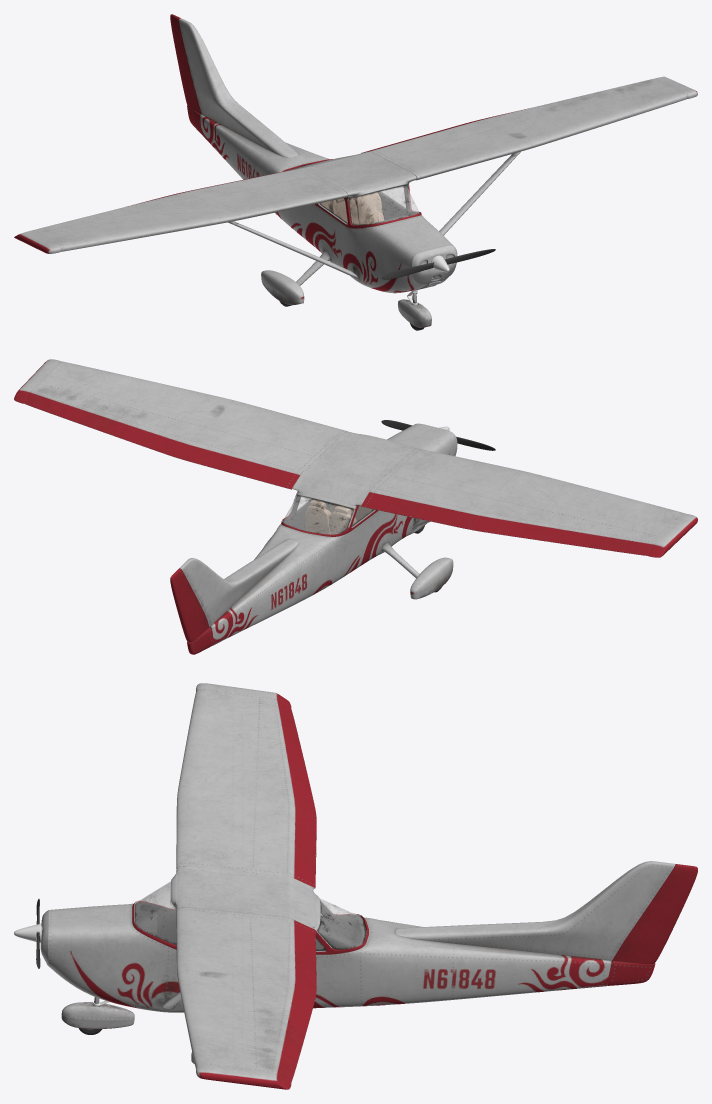
Rendered from SKYBOUND_Cessna_172.glb.
3 renders of one model, top to bottom at view 1: azimuth 30°, elevation 25°; view 2: azimuth 150°, elevation 25°; view 3: azimuth 270°, elevation 25°, orthographic. The views are drawn at different scales.
Parts seen in each view (by area): view 1: body, glass, seat2, interior, engine; view 2: body, glass, seat, interior; view 3: body, glass, interior.
Boxes of the visible parts, left/top/right/bottom form: body: left=14, top=14, right=697, bottom=327; glass: left=291, top=164, right=419, bottom=224; seat2: left=329, top=192, right=383, bottom=224; interior: left=286, top=163, right=418, bottom=225; engine: left=381, top=249, right=495, bottom=279; body: left=14, top=359, right=697, bottom=654; glass: left=283, top=495, right=374, bottom=534; seat: left=305, top=500, right=356, bottom=534; interior: left=282, top=495, right=374, bottom=533; body: left=40, top=683, right=697, bottom=1089; glass: left=135, top=881, right=365, bottom=950; interior: left=135, top=901, right=366, bottom=950.
Bounding box in the file's own units: 14.07 × 2.88 × 10.39.
7 materials, 4 textured.
